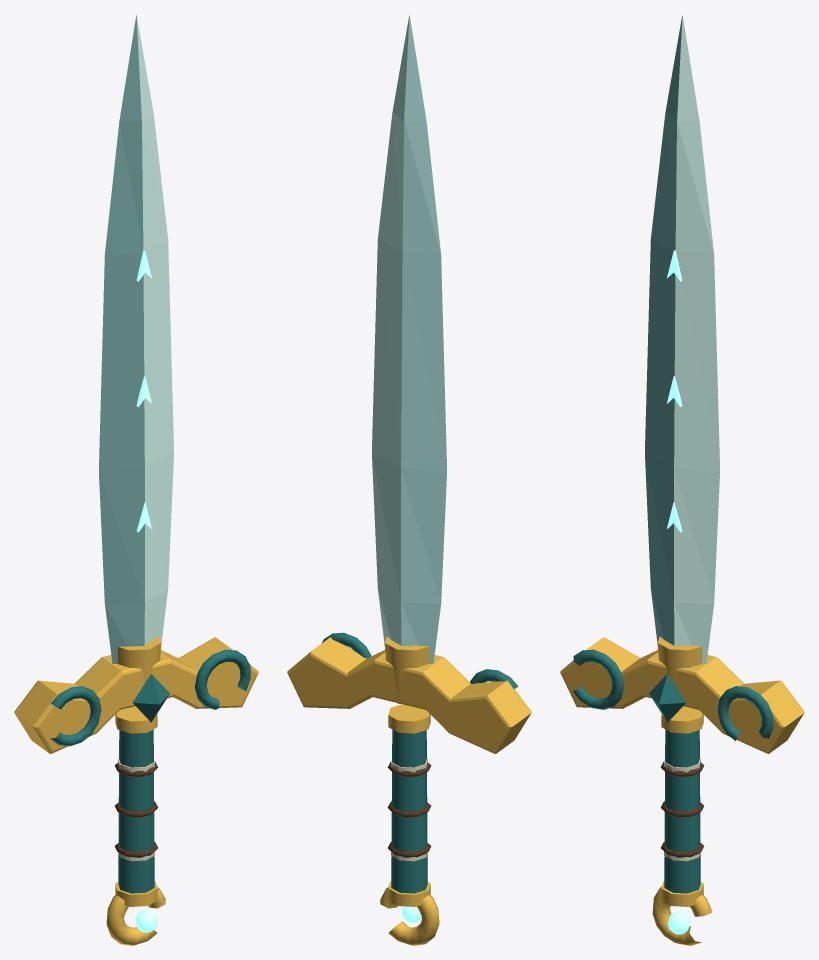
Rendered from sword_f4_8a1ee220.glb.
The picture shows the model from 3 angles, left to right: view 1: azimuth 30°, elevation 25°; view 2: azimuth 150°, elevation 25°; view 3: azimuth 330°, elevation 25°; orthographic projection.
Visible parts, largest first — view 1: m0_ow80_, m5_ow80_, m6_ow80_, m7_ow80_; view 2: m0_ow80_, m5_ow80_, m6_ow80_, m7_ow80_; view 3: m0_ow80_, m5_ow80_, m6_ow80_, m7_ow80_.
Boxes of the visible parts, x1=… form: m0_ow80_: x1=99, y1=14, x2=173, y2=663; m5_ow80_: x1=14, y1=636, x2=258, y2=945; m6_ow80_: x1=50, y1=649, x2=250, y2=893; m7_ow80_: x1=114, y1=762, x2=158, y2=857; m0_ow80_: x1=372, y1=14, x2=446, y2=663; m5_ow80_: x1=287, y1=636, x2=531, y2=945; m6_ow80_: x1=322, y1=632, x2=518, y2=893; m7_ow80_: x1=387, y1=762, x2=431, y2=857; m0_ow80_: x1=645, y1=14, x2=719, y2=663; m5_ow80_: x1=560, y1=636, x2=804, y2=945; m6_ow80_: x1=573, y1=649, x2=773, y2=893; m7_ow80_: x1=660, y1=762, x2=704, y2=857.
Bounding box in the file's own units: 0.5273 × 2.08 × 0.1477.
